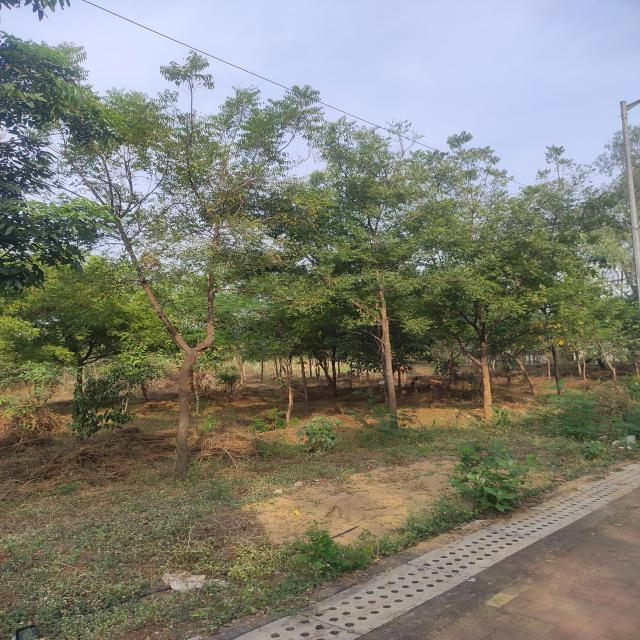Neem Tree: (69, 92, 275, 450), (311, 120, 464, 425), (485, 230, 608, 359)
